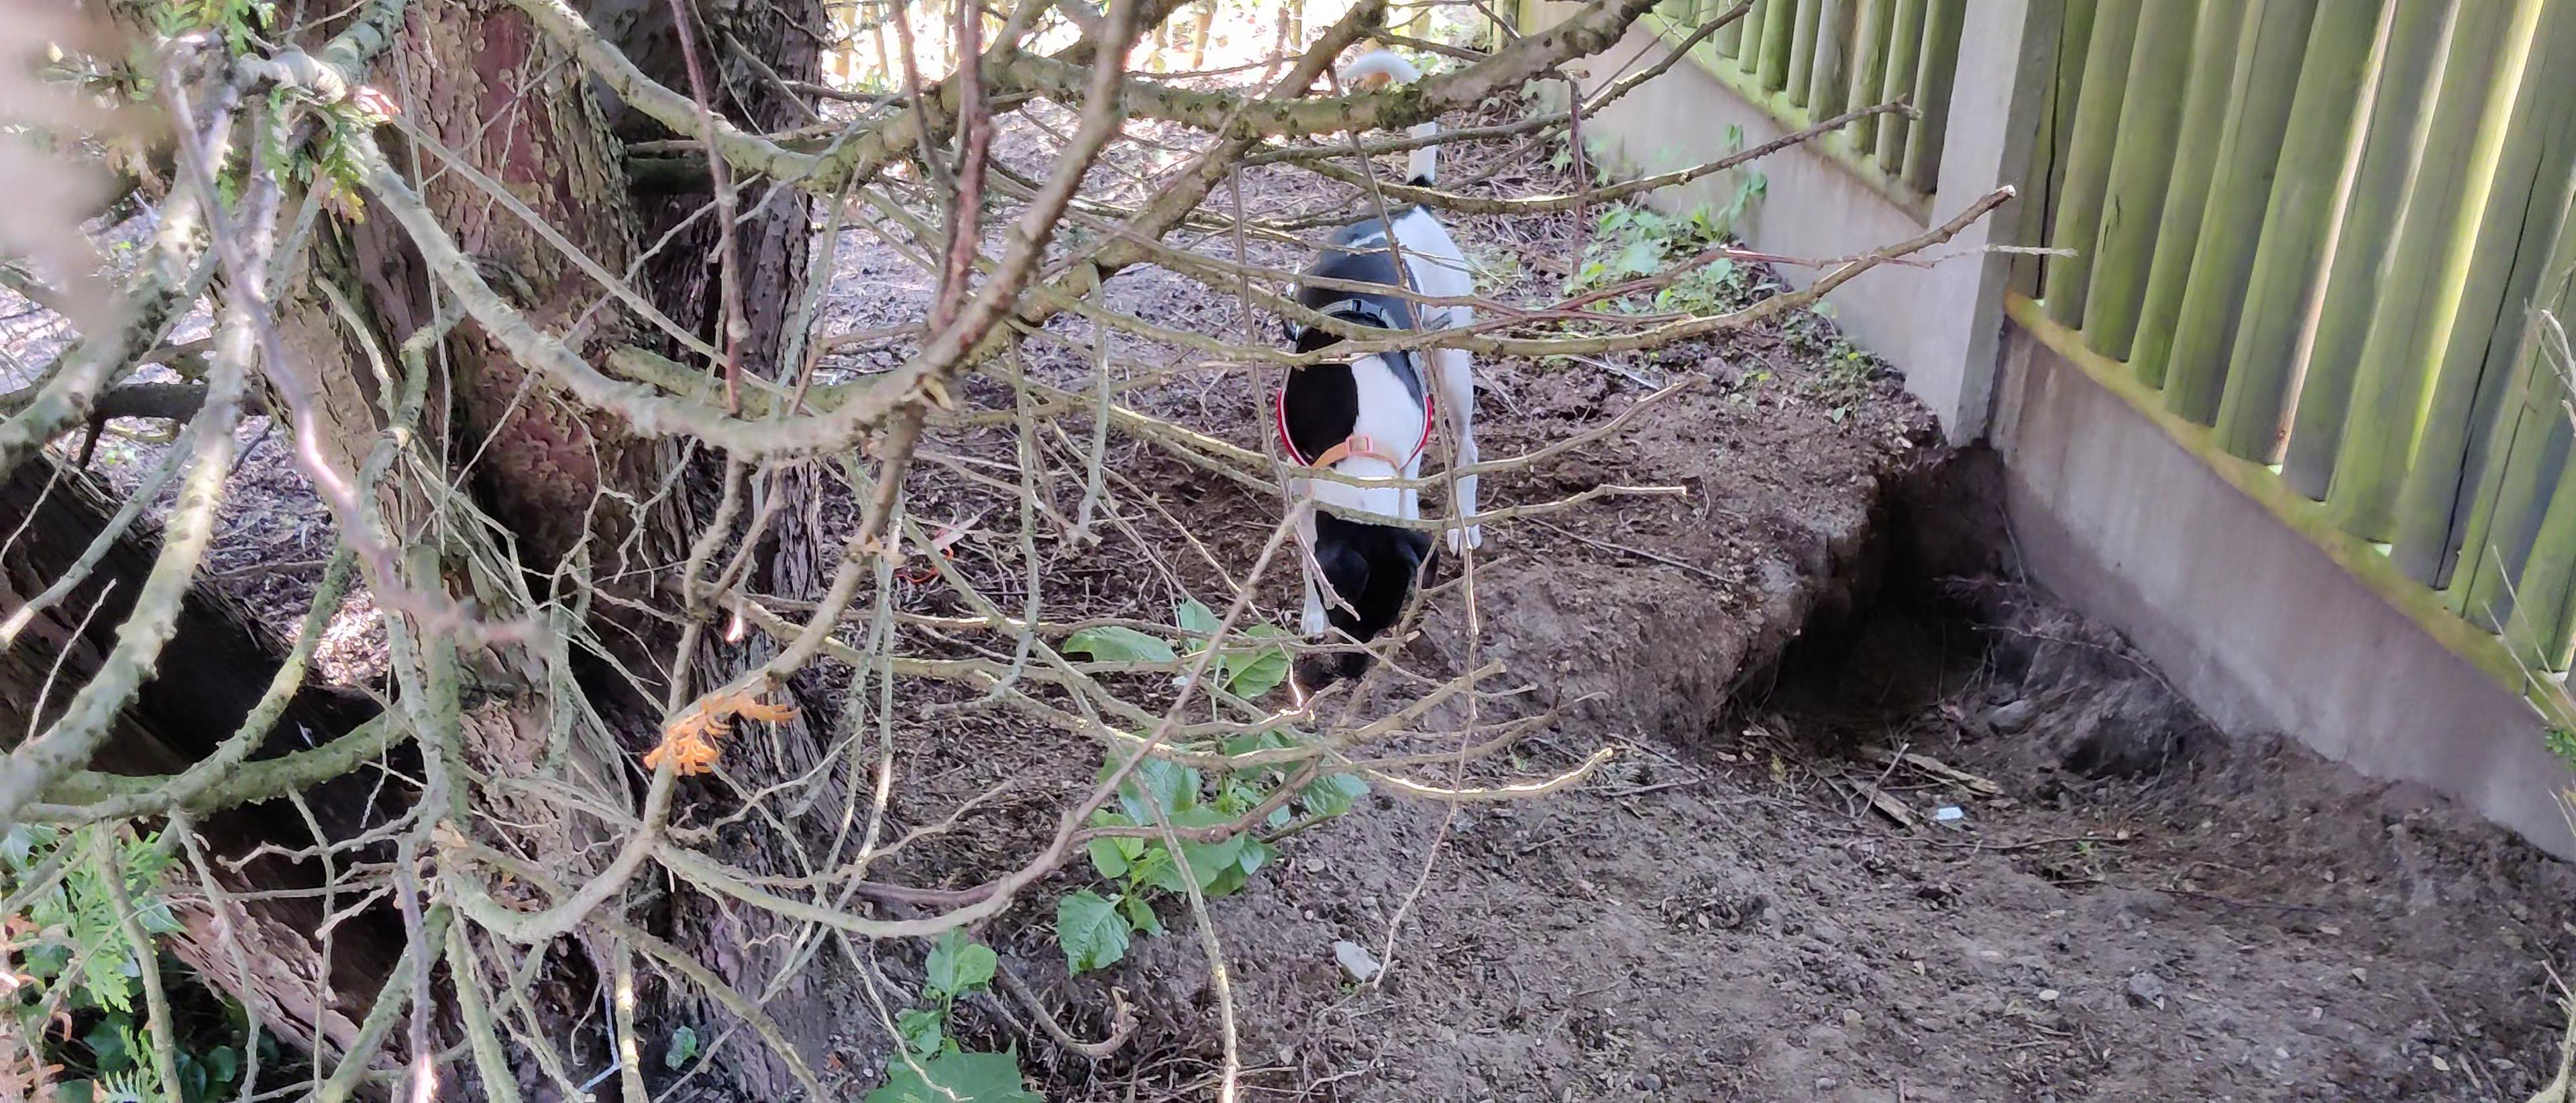Dog: (1253, 23, 1518, 694)
